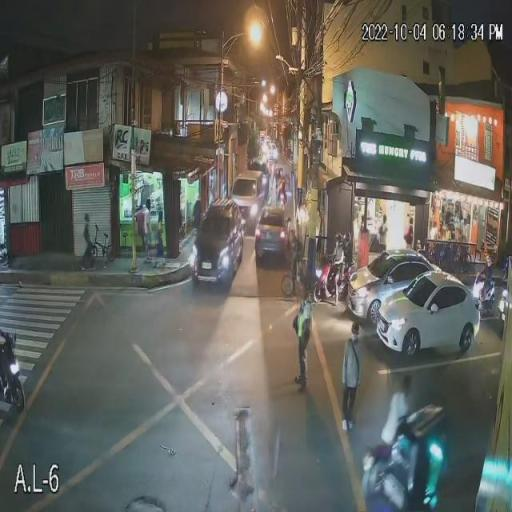helmet: (391, 376, 405, 391), (328, 231, 338, 241), (339, 231, 348, 242)
motorcycle: (362, 402, 447, 511), (473, 257, 507, 324), (0, 328, 26, 413), (312, 254, 354, 306)
rider: (379, 382, 417, 466), (478, 253, 500, 299), (332, 230, 350, 282)
